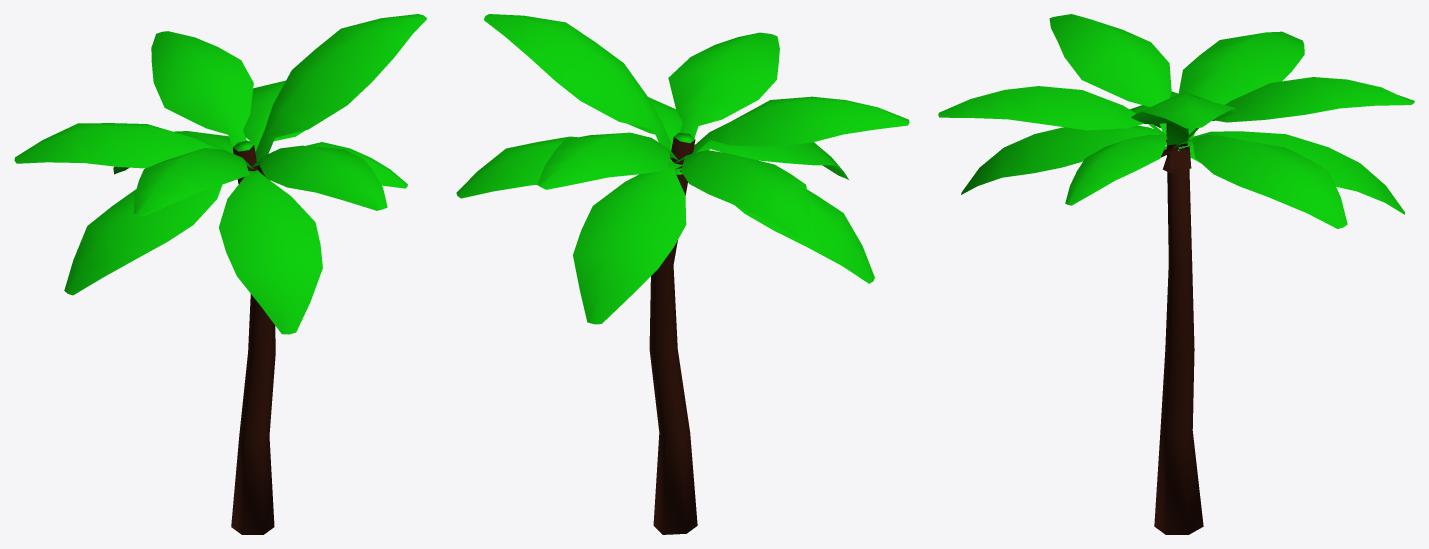
Rendered from PalmTree2.obj.
The picture shows the model from 3 angles, left to right: view 1: azimuth 30°, elevation 25°; view 2: azimuth 150°, elevation 25°; view 3: azimuth 270°, elevation 25°; orthographic projection. The views are drawn at different scales.
Parts seen in each view (by area): view 1: Palm_Tree_1; view 2: Palm_Tree_1; view 3: Palm_Tree_1.
Part boxes in pixels (x1=…): Palm_Tree_1: x1=14, y1=14, x2=427, y2=534; Palm_Tree_1: x1=456, y1=14, x2=909, y2=534; Palm_Tree_1: x1=938, y1=14, x2=1414, y2=534.
Bounding box in the file's own units: 5.89 × 7.12 × 6.21.
